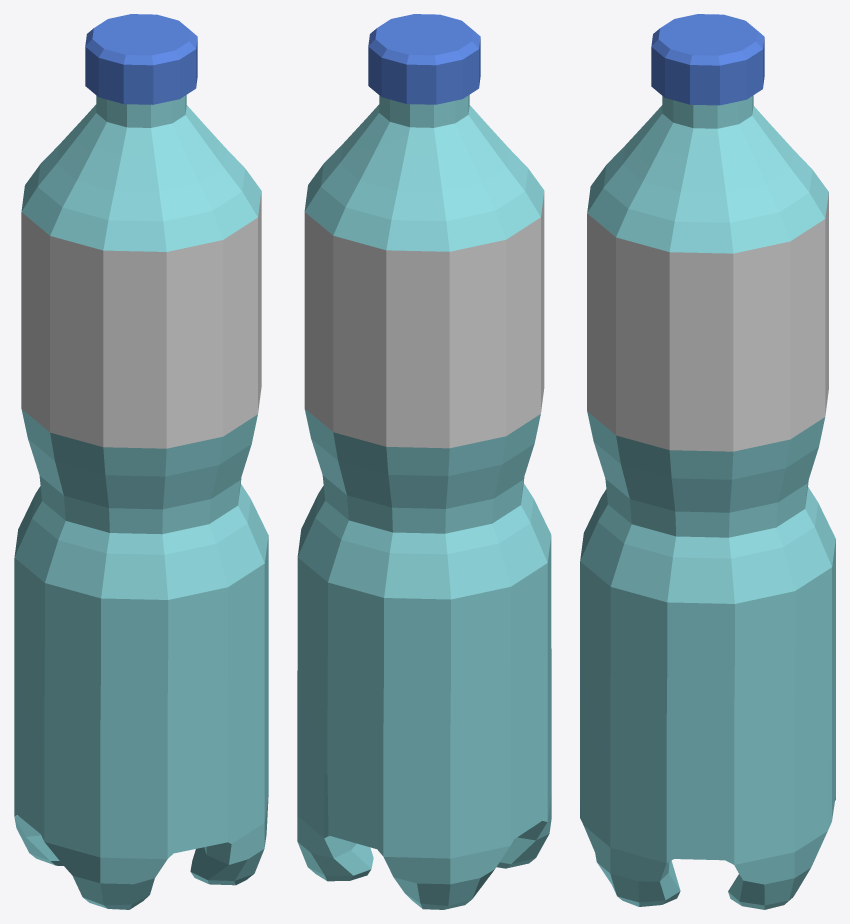
The model's file is Boda1.fbx.
3 renders of one model, left to right at view 1: azimuth 30°, elevation 25°; view 2: azimuth 150°, elevation 25°; view 3: azimuth 270°, elevation 25°, orthographic.
Visible parts, largest first — view 1: Cube.001; view 2: Cube.001; view 3: Cube.001.
Boxes of the visible parts, left/top/right/bottom form: Cube.001: left=14, top=14, right=268, bottom=909; Cube.001: left=297, top=14, right=551, bottom=909; Cube.001: left=580, top=14, right=835, bottom=909.
Size of the model in its own units: 230 by 828 by 230.
